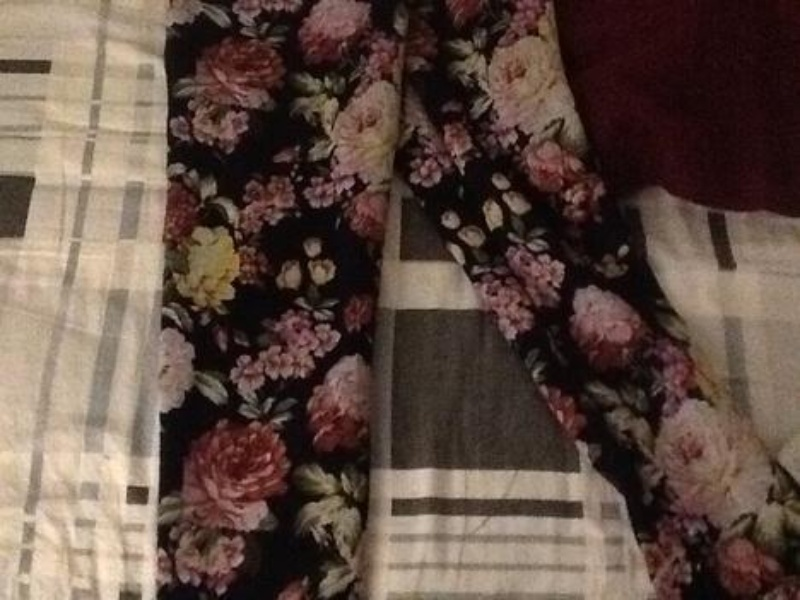trousers: (144, 2, 798, 598)
